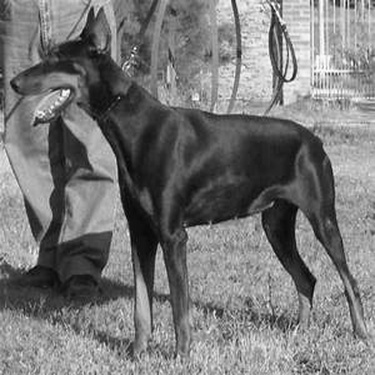dog: (7, 1, 371, 366)
